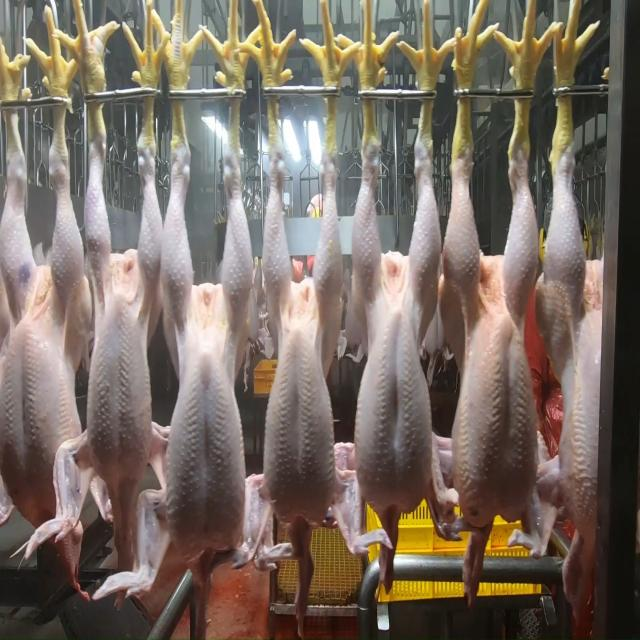chicken: (249, 143, 347, 538), (162, 135, 250, 558), (345, 137, 438, 515), (0, 128, 87, 520), (454, 146, 538, 527), (91, 142, 163, 483), (544, 133, 604, 538)
